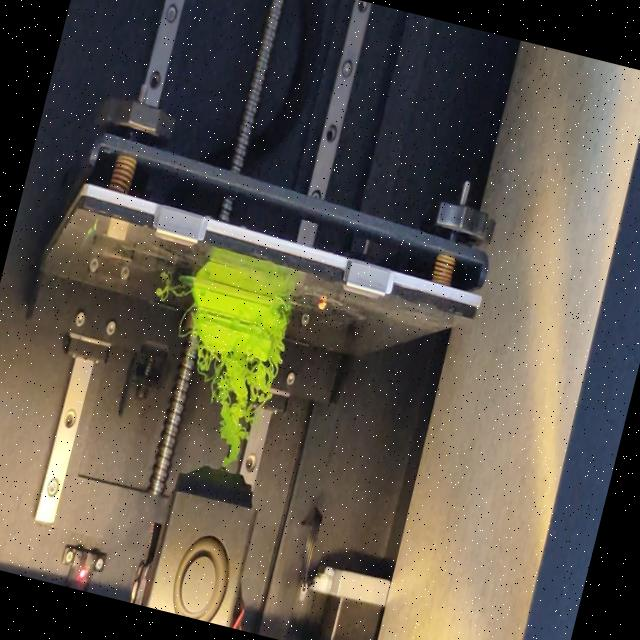spaghetti: (172, 336, 284, 473), (266, 297, 296, 362), (173, 296, 200, 344), (153, 279, 185, 302)
